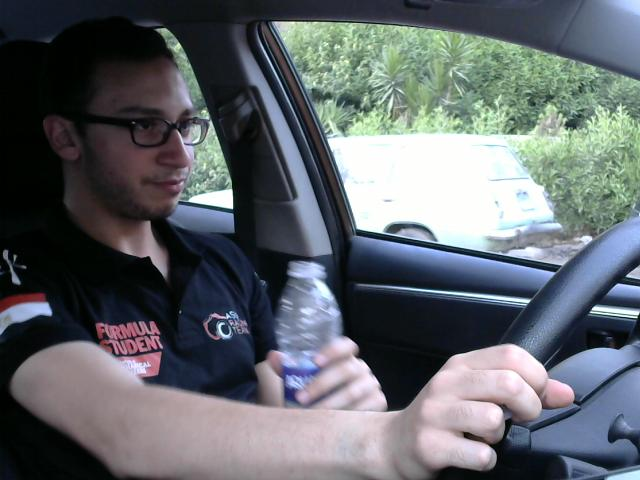Drinking: (252, 253, 359, 467)
